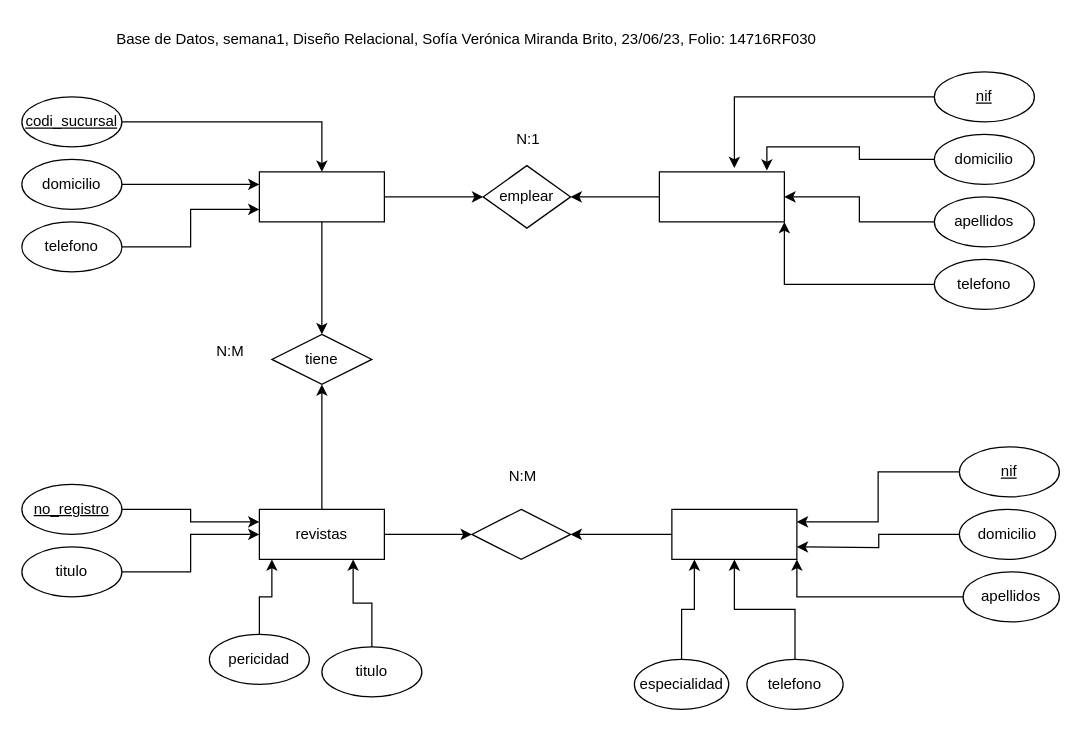
This 1081x731 diagram has some shape labels left out. The shapes that lost their labels are listed below. From the top down, each one's box as (x1, y1, x2, y2) in pixels, then its label:
(258, 171, 384, 222): sucursal
(658, 171, 784, 222): empleado
(471, 508, 571, 559): esctibir
(671, 508, 797, 559): periodista
